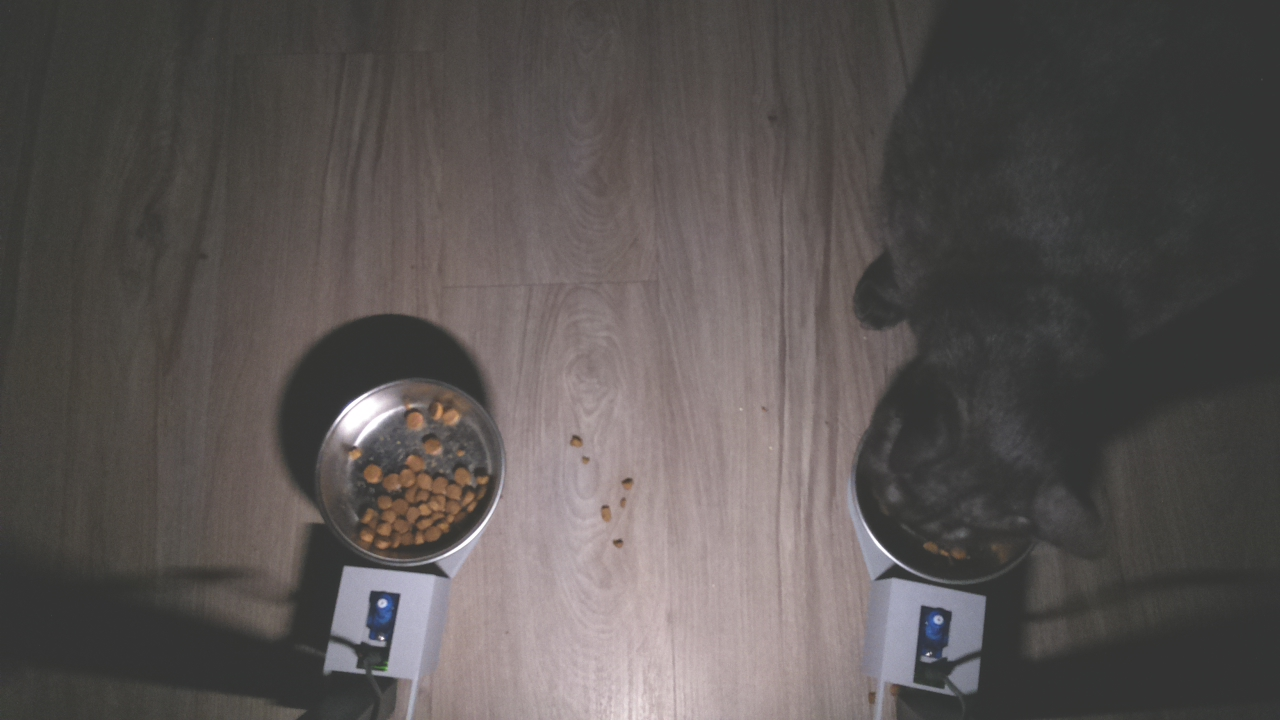open_bowl: (312, 371, 509, 569)
saki_eating: (854, 343, 1128, 589)
